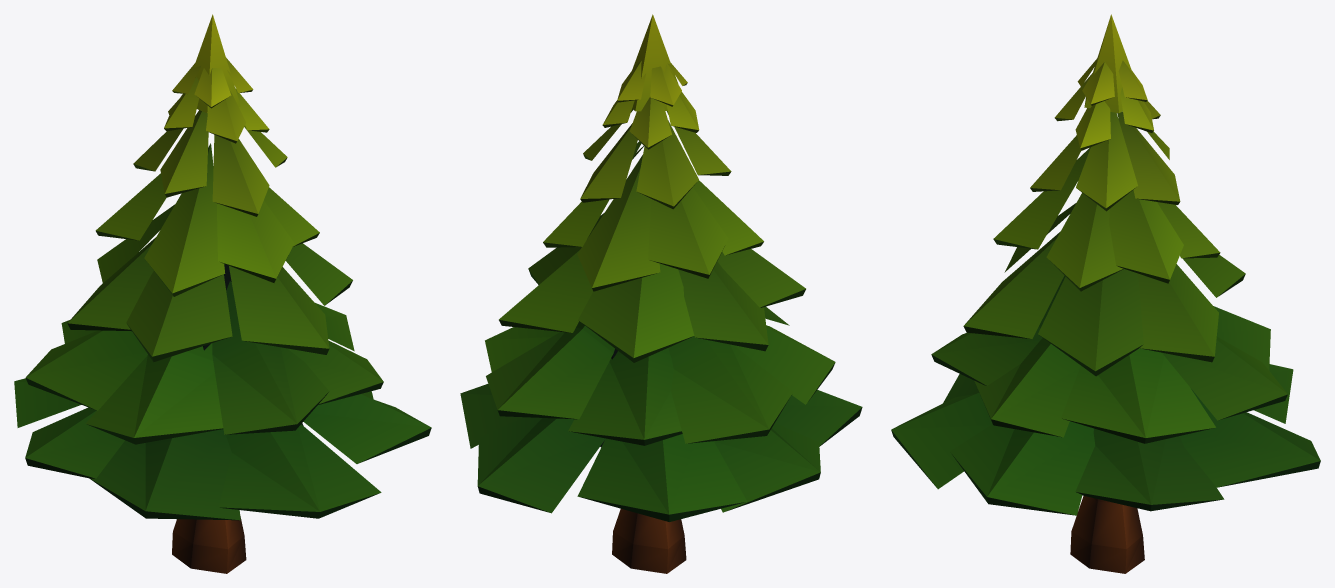
The model's file is pine_tree_lod.glb.
3 renders of one model, left to right at view 1: azimuth 30°, elevation 25°; view 2: azimuth 150°, elevation 25°; view 3: azimuth 270°, elevation 25°, orthographic.
Parts seen in each view (by area): view 1: pine_tree_lod; view 2: pine_tree_lod; view 3: pine_tree_lod.
Boxes of the visible parts, left/top/right/bottom form: pine_tree_lod: left=14, top=14, right=431, bottom=573; pine_tree_lod: left=460, top=14, right=862, bottom=573; pine_tree_lod: left=891, top=14, right=1320, bottom=573.
Size of the model in its own units: 4.59 by 6.8 by 4.87.
